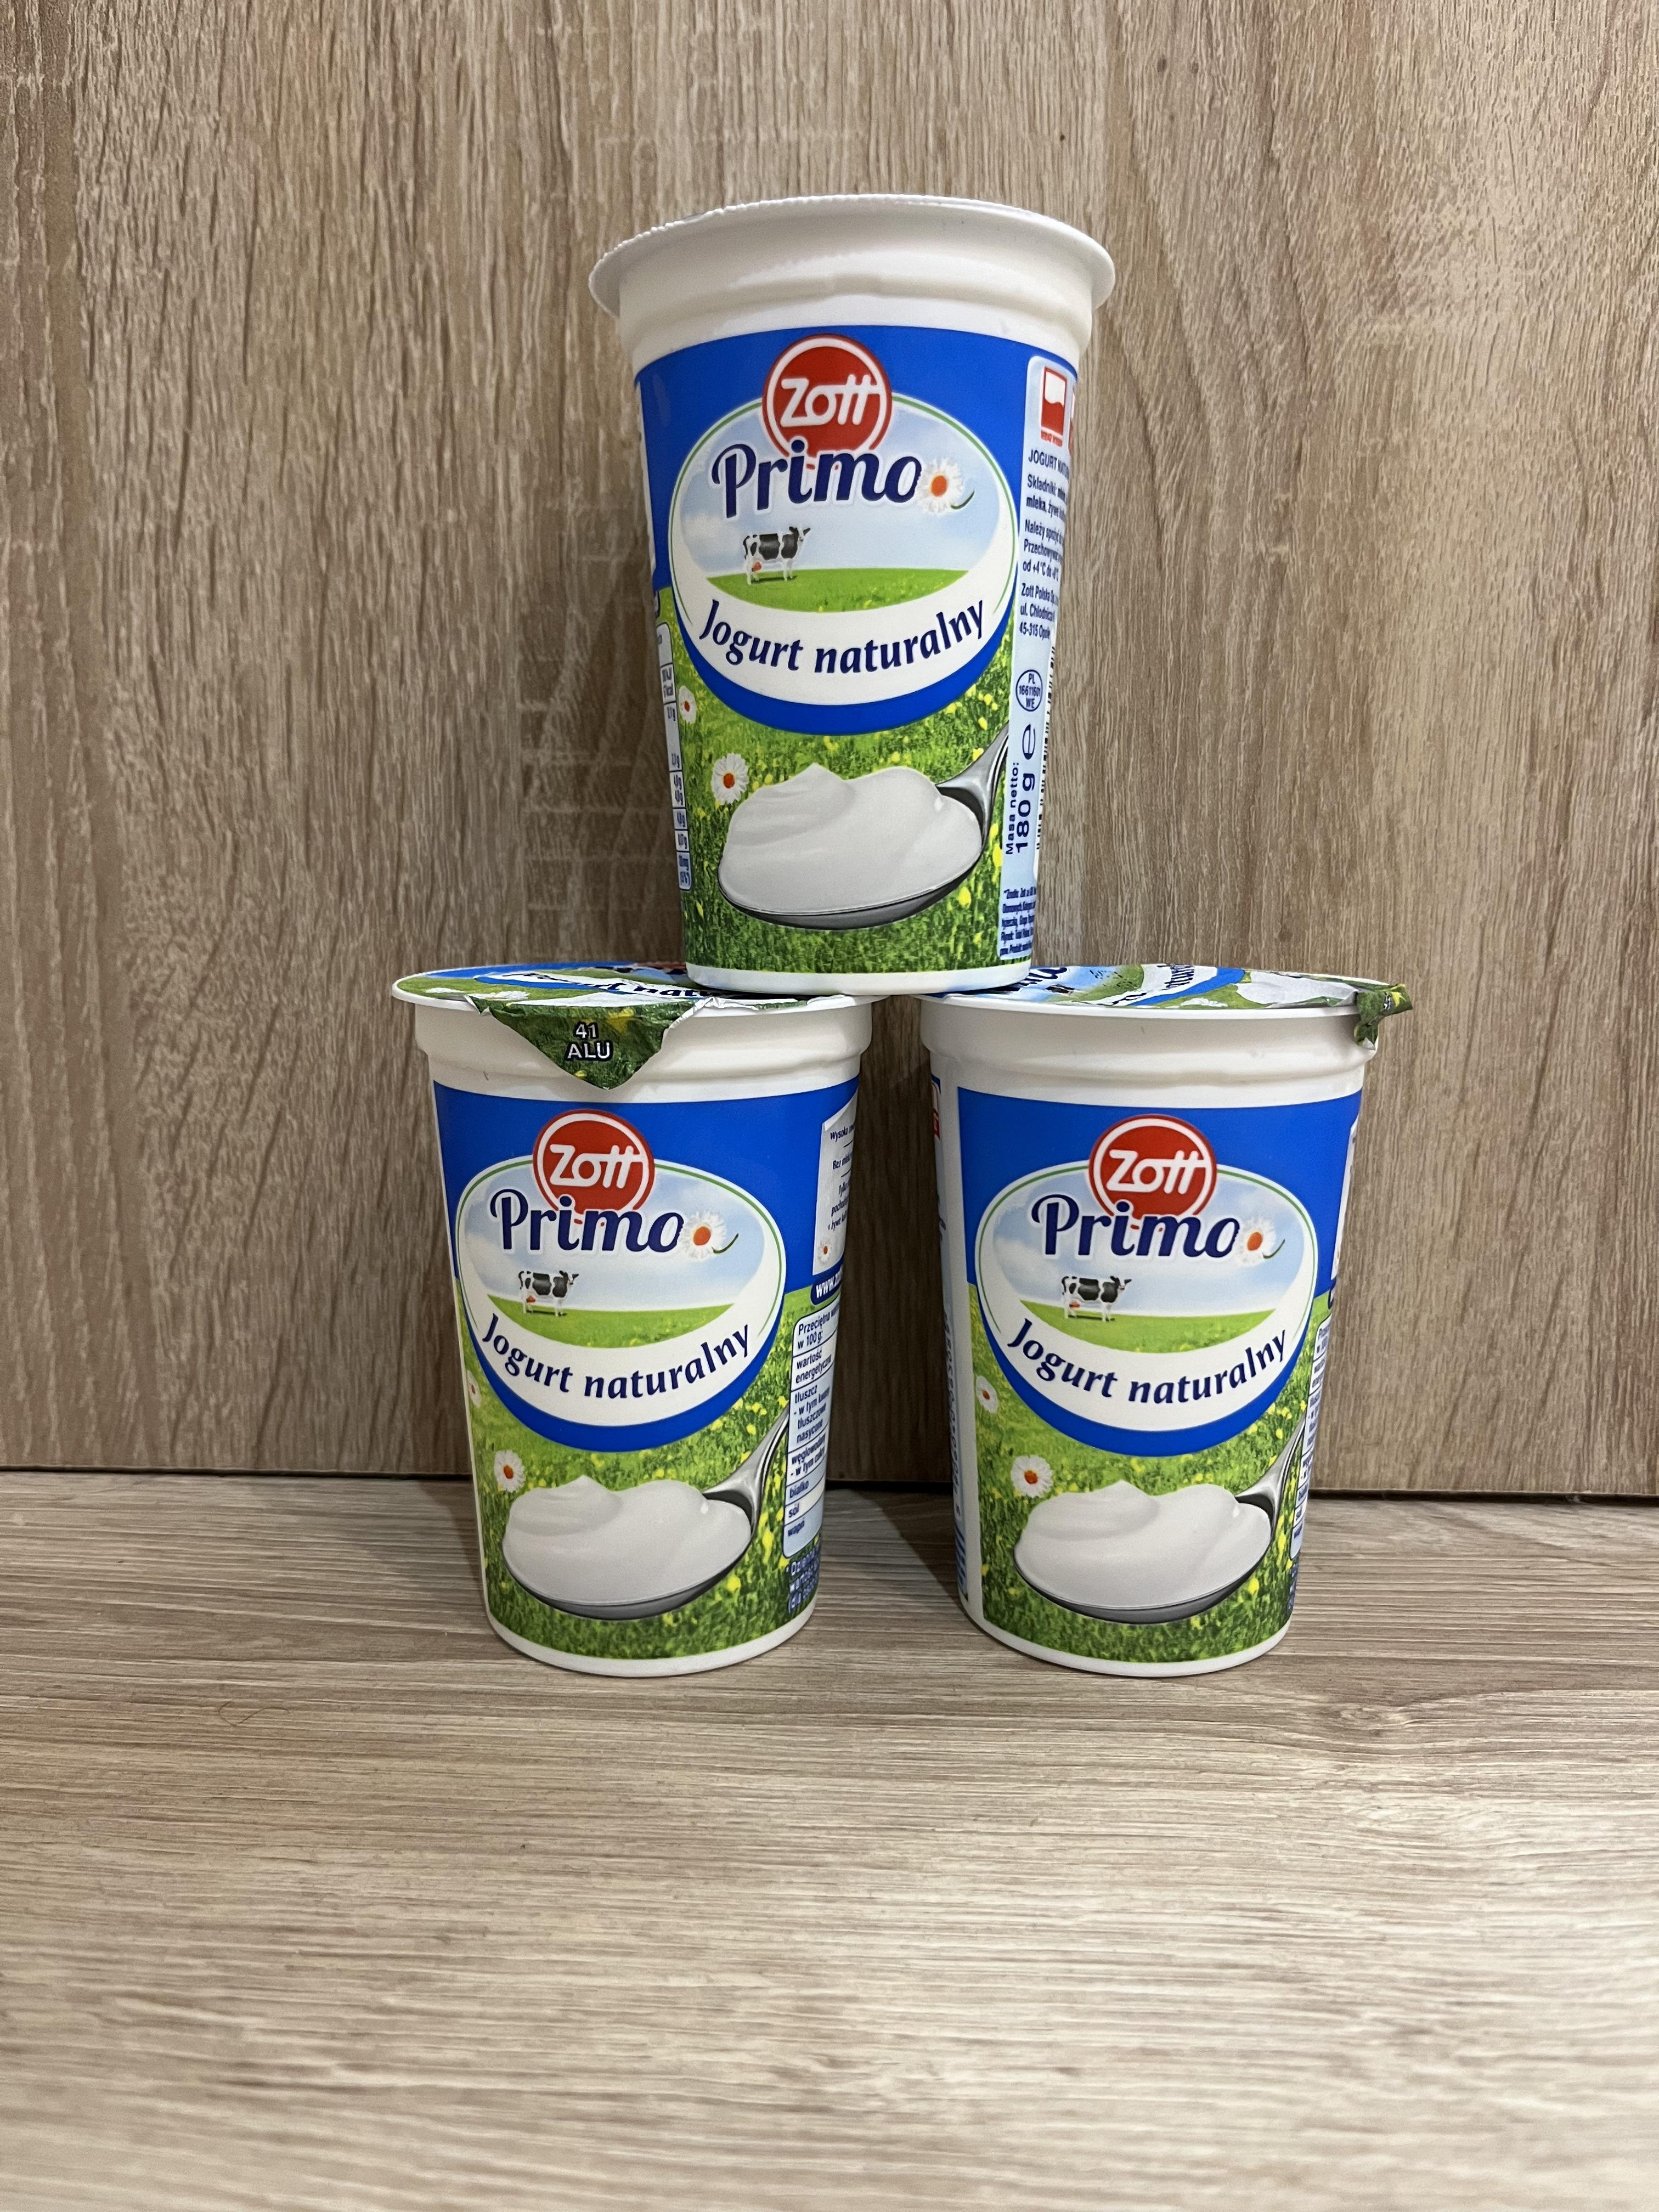Yogurt: (634, 197, 1086, 998), (422, 960, 854, 1669), (948, 972, 1338, 1670)
